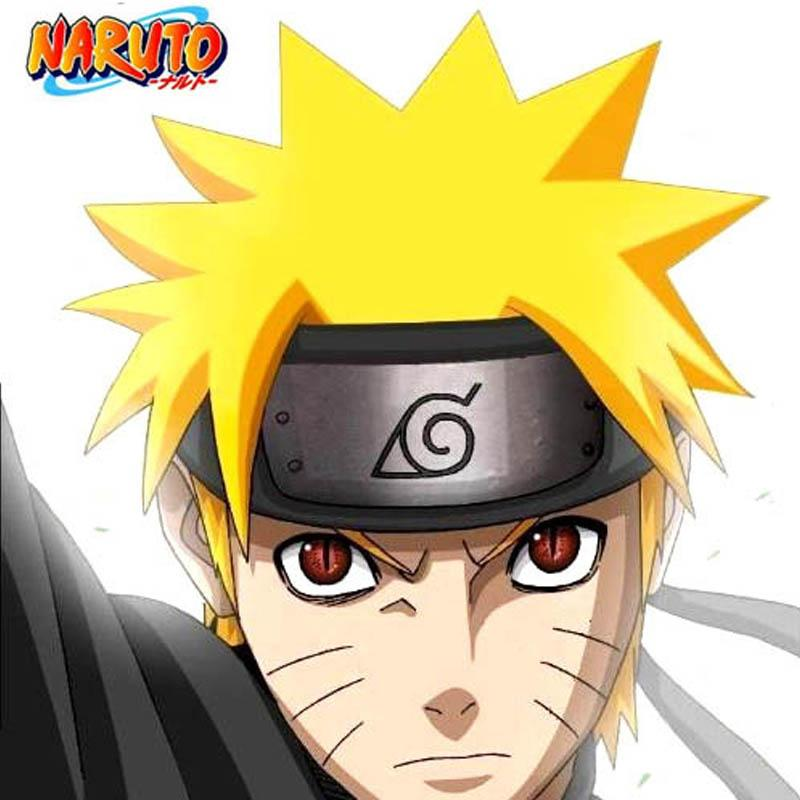naruto: (142, 312, 694, 800)
